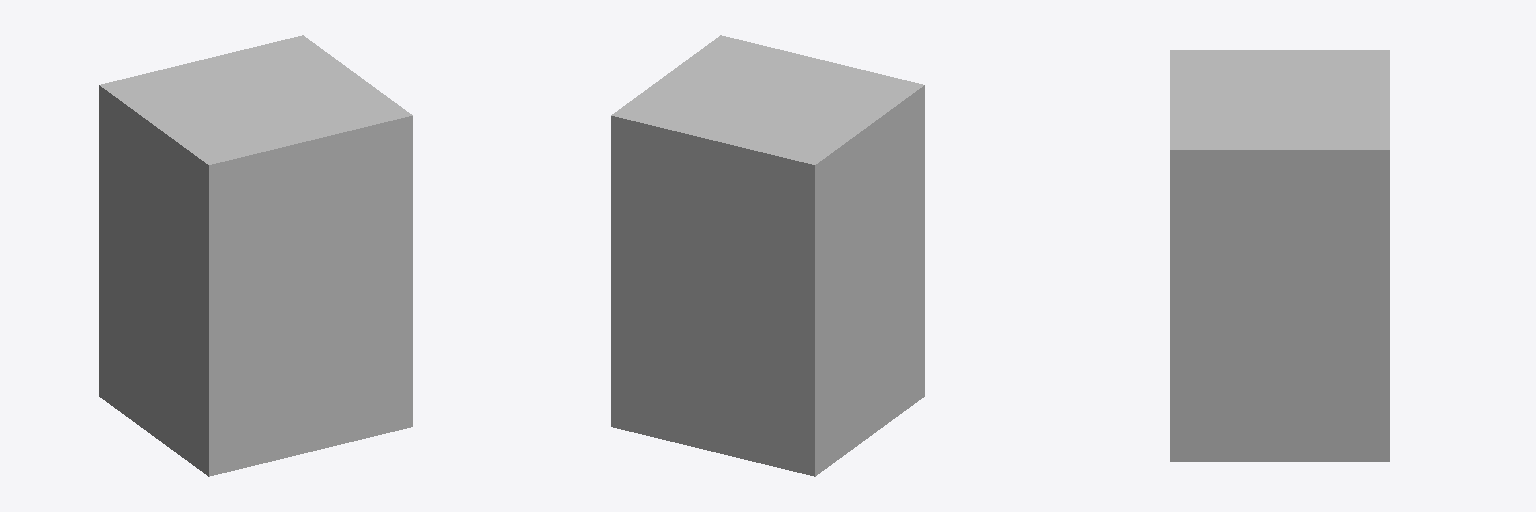
Rendered from medium_window.obj.
The picture shows the model from 3 angles: view 1: azimuth 30°, elevation 25°; view 2: azimuth 150°, elevation 25°; view 3: azimuth 270°, elevation 25°; orthographic projection.
Visible parts, largest first — view 1: Cube.008; view 2: Cube.008; view 3: Cube.008.
Boxes of the visible parts, box(x1,y1,x2,y2) form: Cube.008: box(99, 35, 412, 476); Cube.008: box(611, 35, 924, 476); Cube.008: box(1170, 50, 1389, 461).
Bounding box in the file's own units: 2.15 × 3.13 × 2.